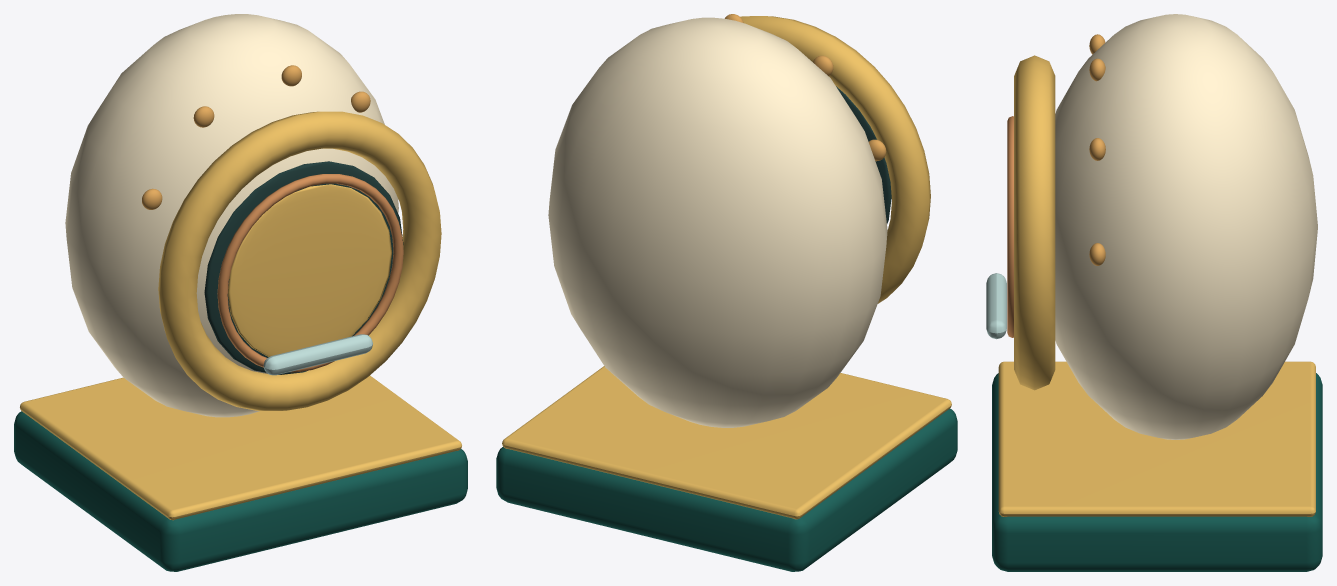
3 renders of one model, left to right at view 1: azimuth 30°, elevation 25°; view 2: azimuth 150°, elevation 25°; view 3: azimuth 270°, elevation 25°, orthographic. The views are drawn at different scales.
Parts seen in each view (by area): view 1: Brass welt, Lunar oven shell, Jade footing, Warm glow, Glowing porthole, Oven porthole, Oven handle, Pastry fold; view 2: Lunar oven shell, Brass welt, Jade footing, Oven porthole, Pastry fold; view 3: Lunar oven shell, Brass welt, Jade footing, Glowing porthole, Oven handle, Pastry fold.
Boxes of the visible parts, x1,y1,x2,y2 form: Brass welt: (20, 111, 461, 520); Lunar oven shell: (65, 14, 398, 417); Jade footing: (14, 411, 467, 571); Warm glow: (227, 184, 391, 356); Glowing porthole: (217, 174, 403, 372); Oven porthole: (204, 161, 403, 374); Oven handle: (263, 334, 372, 375); Pastry fold: (142, 65, 370, 209); Lunar oven shell: (548, 17, 887, 427); Brass welt: (502, 16, 951, 519); Jade footing: (496, 408, 957, 571); Oven porthole: (836, 86, 891, 223); Pastry fold: (725, 14, 886, 161); Lunar oven shell: (1055, 14, 1317, 439); Brass welt: (998, 55, 1315, 516); Jade footing: (992, 373, 1322, 571); Glowing porthole: (1007, 116, 1013, 337); Oven handle: (986, 273, 1006, 339); Pastry fold: (1089, 34, 1105, 265).
Size of the model in its own units: 0.8 by 1.14 by 0.7325.
